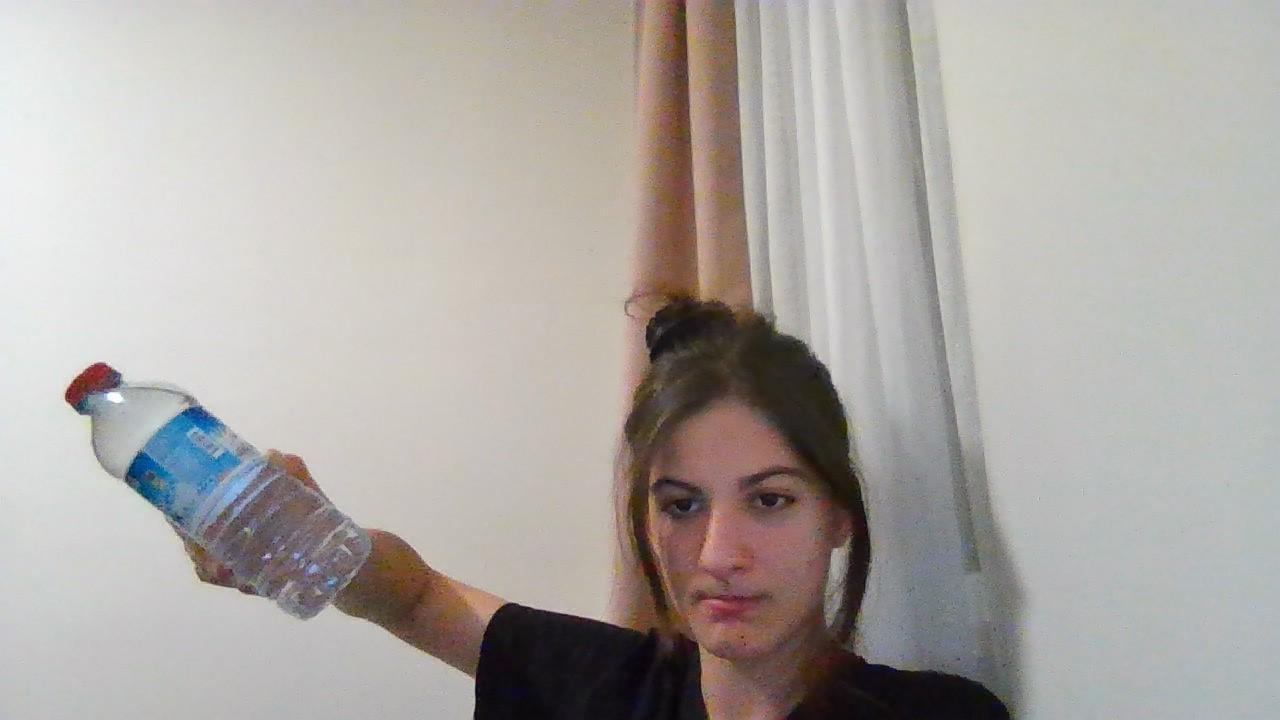bottle: (62, 360, 370, 618)
